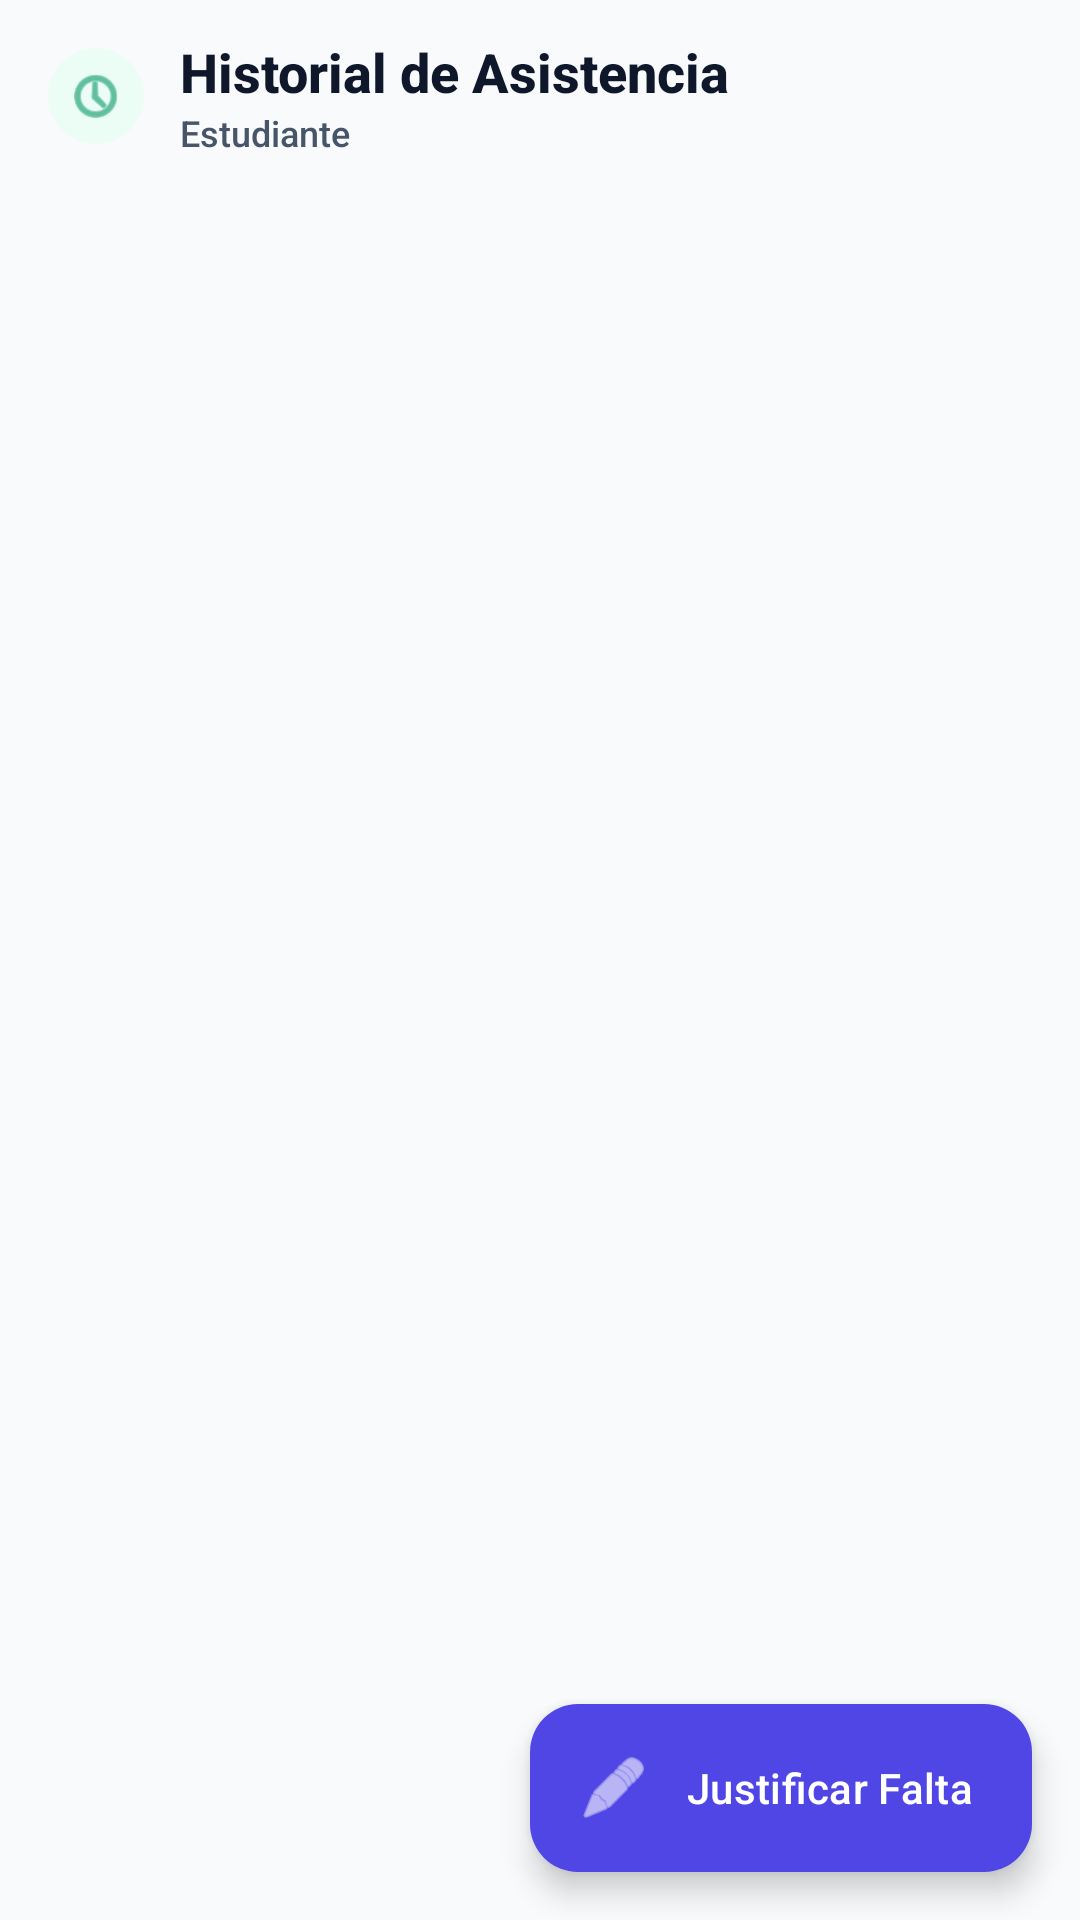

Named icons in this screenshot (1080x1920) and their bounding boxes, (x1, y1, x2, y2):
recent history: (74, 74, 118, 118)
